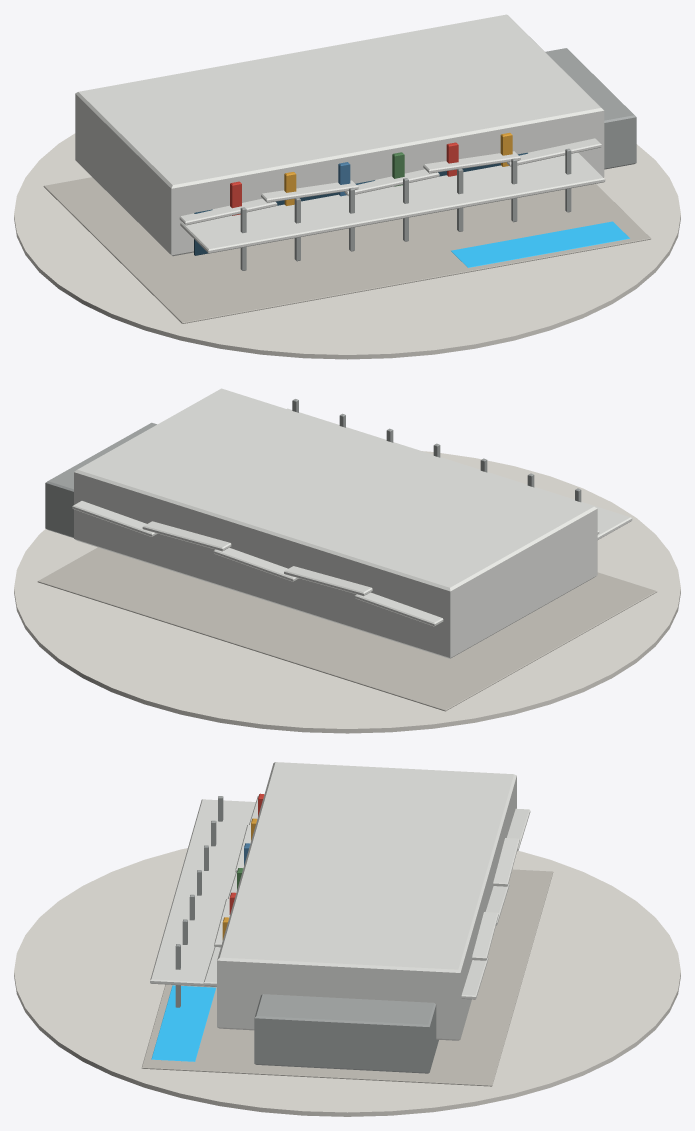
The model's file is centro-de-eventos-do-ceara.glb.
The picture shows the model from 3 angles, top to bottom: view 1: azimuth 30°, elevation 25°; view 2: azimuth 150°, elevation 25°; view 3: azimuth 270°, elevation 25°; orthographic projection.
Visible parts, largest first — view 1: Pavilhao_Principal, Base_Pedestal, Esplanada, Marquise_Entrada, Bloco_Apoio, Espelho_Dagua, Onda_Cobertura_3, Onda_Cobertura_1, Onda_Cobertura_0, Onda_Cobertura_4, Onda_Cobertura_2, Fachada_Vidro; view 2: Pavilhao_Principal, Base_Pedestal, Esplanada, Bloco_Apoio, Marquise_Entrada, Onda_Cobertura_0, Onda_Cobertura_3, Onda_Cobertura_1, Onda_Cobertura_4, Onda_Cobertura_2; view 3: Base_Pedestal, Pavilhao_Principal, Esplanada, Bloco_Apoio, Marquise_Entrada, Espelho_Dagua, Onda_Cobertura_3, Onda_Cobertura_1, Onda_Cobertura_4, Onda_Cobertura_0, Onda_Cobertura_2.
Boxes of the visible parts, left/top/right/bottom form: Pavilhao_Principal: left=75, top=14, right=604, bottom=256; Base_Pedestal: left=14, top=133, right=680, bottom=359; Esplanada: left=43, top=177, right=651, bottom=323; Marquise_Entrada: left=180, top=152, right=605, bottom=253; Bloco_Apoio: left=545, top=48, right=636, bottom=169; Espelho_Dagua: left=451, top=221, right=629, bottom=267; Onda_Cobertura_3: left=423, top=151, right=520, bottom=173; Onda_Cobertura_1: left=261, top=180, right=358, bottom=202; Onda_Cobertura_0: left=179, top=198, right=277, bottom=225; Onda_Cobertura_4: left=507, top=138, right=601, bottom=166; Onda_Cobertura_2: left=344, top=169, right=439, bottom=195; Fachada_Vidro: left=194, top=152, right=527, bottom=255; Pavilhao_Principal: left=74, top=388, right=597, bottom=658; Base_Pedestal: left=14, top=451, right=680, bottom=733; Esplanada: left=37, top=547, right=657, bottom=711; Bloco_Apoio: left=45, top=422, right=156, bottom=537; Marquise_Entrada: left=287, top=408, right=632, bottom=539; Onda_Cobertura_0: left=354, top=531, right=599, bottom=626; Onda_Cobertura_3: left=142, top=521, right=231, bottom=551; Onda_Cobertura_1: left=284, top=566, right=372, bottom=596; Onda_Cobertura_4: left=72, top=501, right=157, bottom=536; Onda_Cobertura_2: left=213, top=547, right=298, bottom=581; Base_Pedestal: left=14, top=848, right=680, bottom=1116; Pavilhao_Principal: left=217, top=762, right=516, bottom=1040; Esplanada: left=141, top=869, right=553, bottom=1086; Bloco_Apoio: left=254, top=994, right=438, bottom=1073; Marquise_Entrada: left=150, top=799, right=255, bottom=986; Espelho_Dagua: left=151, top=985, right=215, bottom=1061; Onda_Cobertura_3: left=214, top=899, right=498, bottom=960; Onda_Cobertura_1: left=235, top=825, right=519, bottom=886; Onda_Cobertura_4: left=203, top=947, right=488, bottom=999; Onda_Cobertura_0: left=249, top=796, right=530, bottom=851; Onda_Cobertura_2: left=228, top=873, right=509, bottom=925.
Size of the model in its own units: 68 by 12.5 by 68.
